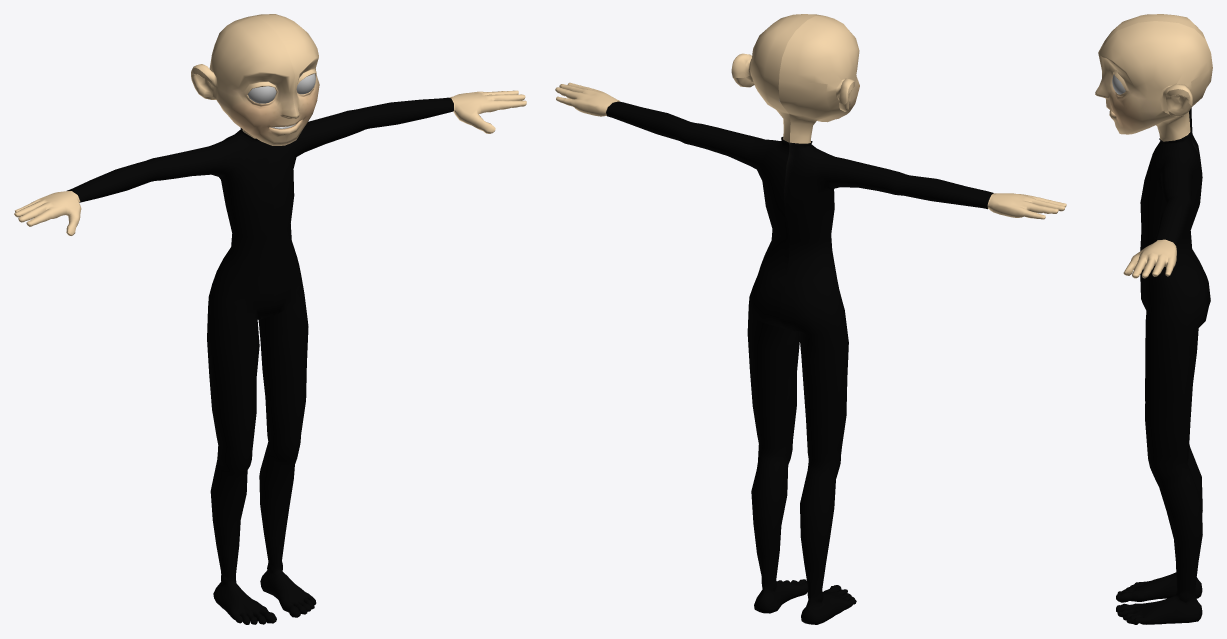
The model's file is boy.obj.
3 views of the same model, side by side, from view 1: azimuth 30°, elevation 25°; view 2: azimuth 150°, elevation 25°; view 3: azimuth 270°, elevation 25° (orthographic).
Visible parts, largest first — view 1: polySurface41; view 2: polySurface41; view 3: polySurface41.
Boxes of the visible parts, x1,y1,x2,y2 form: polySurface41: [14, 14, 526, 624]; polySurface41: [555, 14, 1066, 624]; polySurface41: [1095, 14, 1212, 624].
Size of the model in its own units: 7.38 by 8.15 by 1.48.
